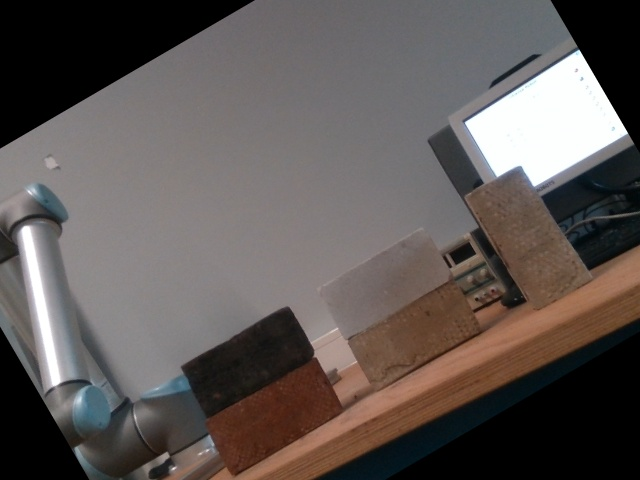brick: (472, 167, 588, 309), (348, 279, 482, 389), (181, 305, 314, 415), (319, 227, 452, 337), (206, 360, 340, 469)
